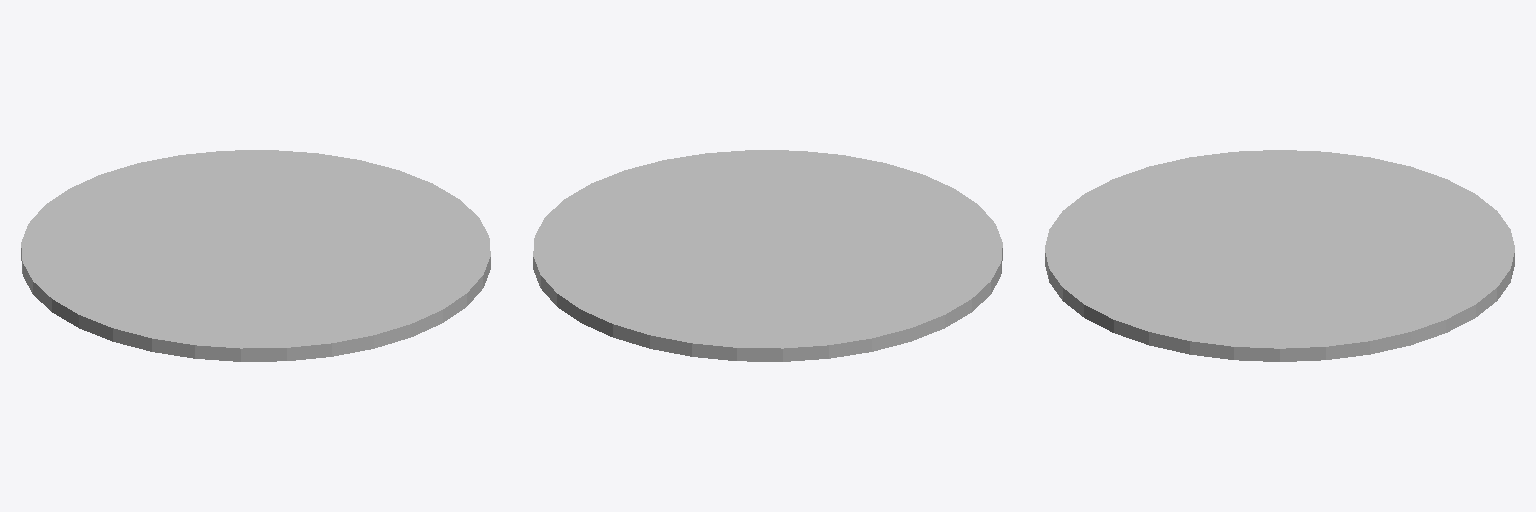
Rendered from heatmap-layer.obj.
3 views of the same model, side by side, from view 1: azimuth 30°, elevation 25°; view 2: azimuth 150°, elevation 25°; view 3: azimuth 270°, elevation 25° (orthographic).
Parts seen in each view (by area): view 1: Cylinder.003_Cylinder.001; view 2: Cylinder.003_Cylinder.001; view 3: Cylinder.003_Cylinder.001.
Boxes of the visible parts, box(x1,y1,x2,y2) form: Cylinder.003_Cylinder.001: box(21, 150, 490, 361); Cylinder.003_Cylinder.001: box(533, 150, 1002, 361); Cylinder.003_Cylinder.001: box(1045, 150, 1514, 361).
Size of the model in its own units: 1.9 by 0.06 by 1.9.